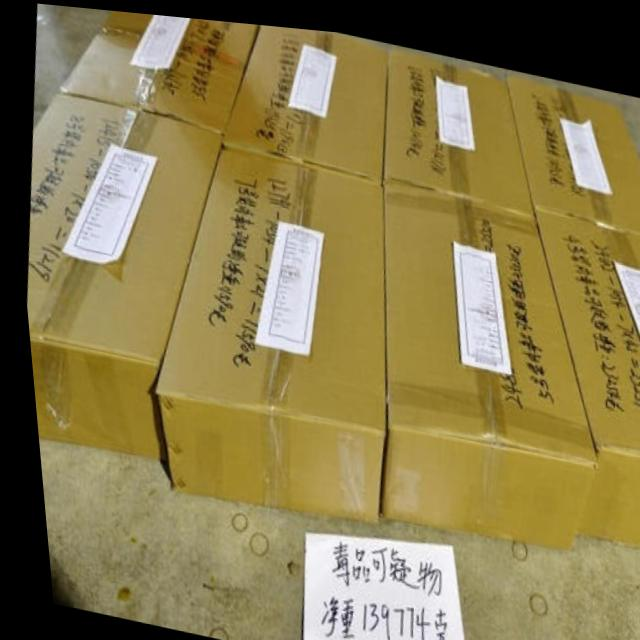box: (150, 131, 381, 515), (370, 175, 591, 540), (21, 86, 220, 459), (533, 195, 640, 538), (218, 19, 388, 173), (380, 37, 533, 207), (57, 8, 260, 130), (505, 61, 640, 219)
